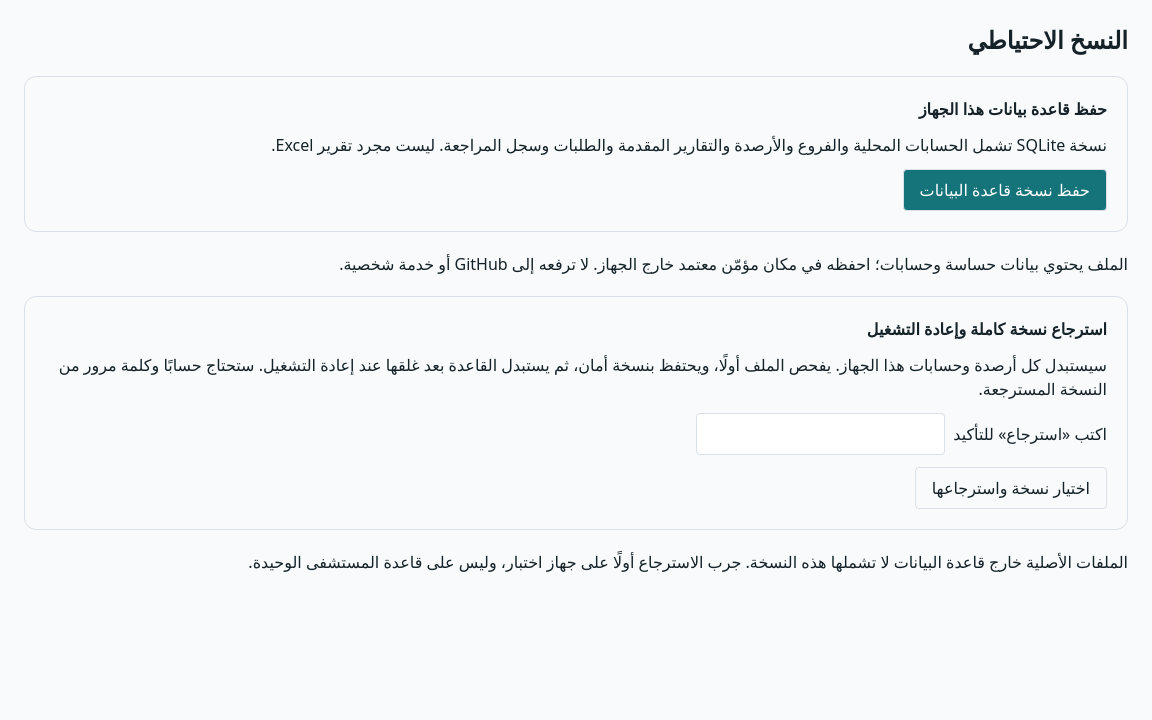
Test: requires an explicit confirmation before choosing a restore database
Expected: the button "اختيار نسخة واسترجاعها" is disabled, [915, 467, 1107, 509]
Type "استرجاع" into the field labelled "اكتب «استرجاع» للتأكيد" at (821, 434), box [696, 413, 945, 455]
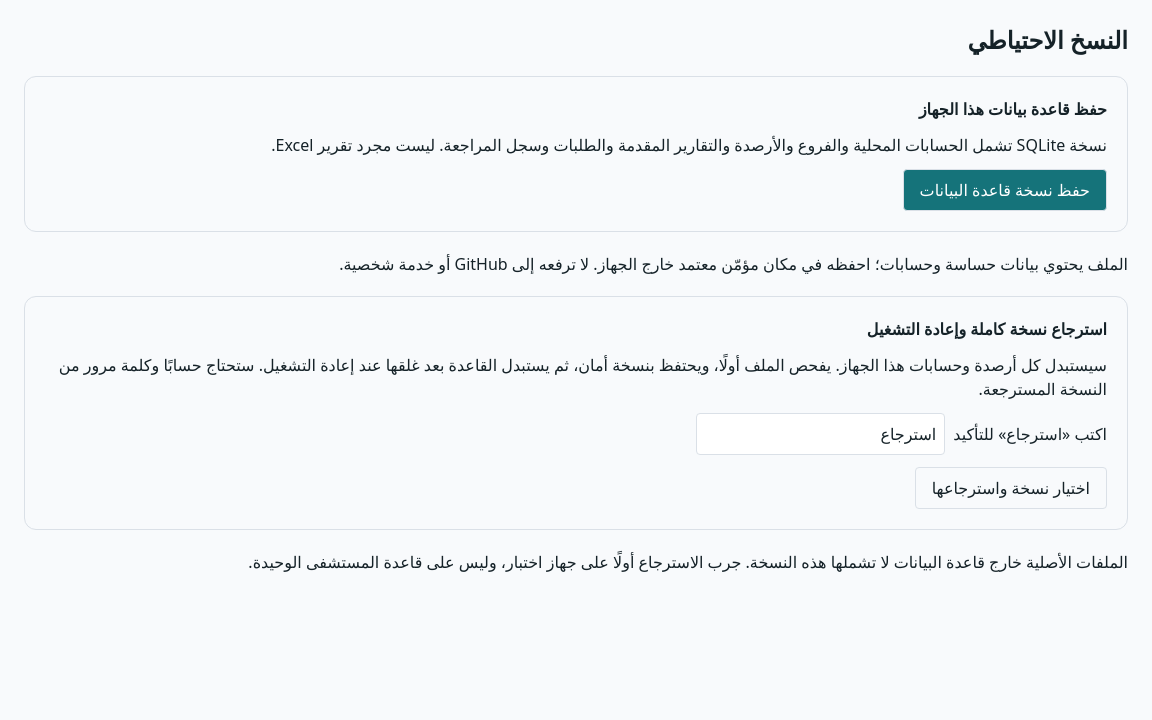
Click the button "اختيار نسخة واسترجاعها" at (1011, 488), box [915, 467, 1107, 509]
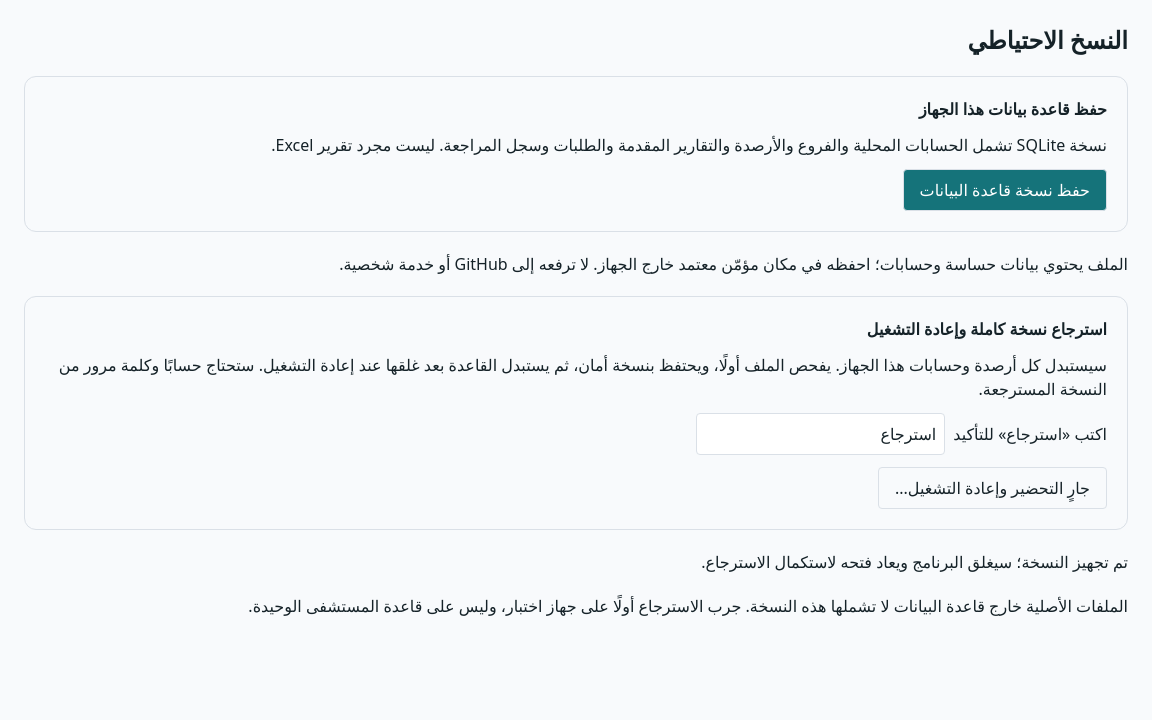
Expected: the message shows "يعاد فتحه", [701, 551, 1128, 573]
